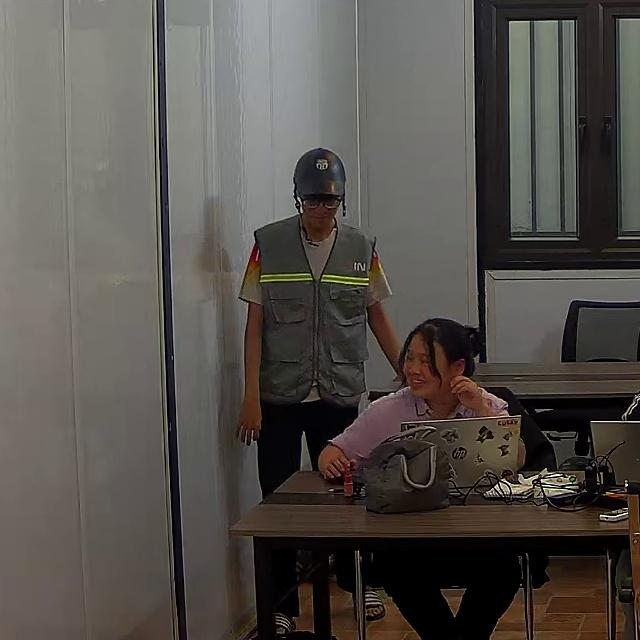helmet: (292, 147, 348, 197)
no_helmet: (402, 316, 478, 387)
none: (327, 385, 507, 475)
vest: (253, 220, 371, 403)
